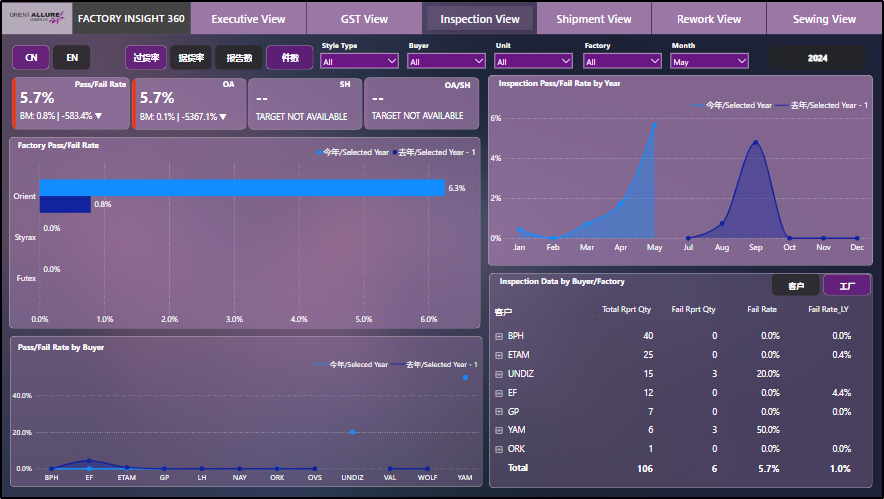

The page's visual inventory and layout, read from the dashboard file:
{"tool":"powerbi","page":{"name":"Inspection View","canvas":[1920,1080],"ordinal":3},"visuals":[{"type":"shape","title":"Navigation Panel Background Shape","box":[0,0,1920,70.6],"z":0,"group":"g11"},{"type":"shape","title":"back","box":[0,2.8,153.1,68.1],"z":0,"group":"g13"},{"type":"advancedSlicerVisual","title":"Slicer year","fields":{"Values":["dim_date.year"]},"box":[1669.4,89.3,221,63.4],"z":0,"group":"g9"},{"type":"group","id":"g1","title":"Group 1","box":[16.7,159.5,266,124.4],"z":0,"group":"g12"},{"type":"cardVisual","fields":{"Data":["IVnewMeasures.insRateDynResult"]},"box":[16.7,159.5,266,124.4],"z":0,"group":"g1"},{"type":"cardVisual","fields":{"Data":["IVnewMeasures.insRateOA/SHDynResult"]},"box":[784.7,159.5,261.7,124.4],"z":0,"group":"g7"},{"type":"group","id":"g2","title":"fail rate ship by month","box":[1060.1,159.5,840,416.7],"z":0},{"type":"shape","title":"background","box":[1060.1,159.8,840,416.4],"z":0,"group":"g2"},{"type":"cardVisual","fields":{"Data":["IVnewMeasures.insRateOADynResult"]},"box":[278.4,161.6,259.6,122.3],"z":0,"group":"g3"},{"type":"cardVisual","fields":{"Data":["IVnewMeasures.insRateSHDynResult"]},"box":[531.6,161.6,259.6,122.3],"z":0,"group":"g5"},{"type":"shape","title":"background","box":[16.3,295.2,1028.6,417.9],"z":0,"group":"g6"},{"type":"shape","title":"background","box":[1063.2,590.5,836.8,469.1],"z":0,"group":"g8"},{"type":"card","fields":{"Values":["Key Measures.dynInsRprtShipQtyHeaderCard"]},"box":[1302.7,649.7,120,44],"z":0,"group":"g10"},{"type":"shape","title":"background","box":[17,729.2,1031.1,329.5],"z":0,"group":"g4"},{"type":"image","title":"logo","box":[4.3,0,143.7,68.6],"z":1000,"group":"g13"},{"type":"actionButton","title":"Executive View Icon","box":[412.4,0,250.9,70.2],"z":1000,"group":"g11"},{"type":"slicer","title":"Slicer month","fields":{"Values":["dim_date.month"]},"box":[1448.4,78.4,190.2,74.3],"z":1000,"group":"g9"},{"type":"actionButton","title":"title","box":[154.4,161.3,125,35],"z":1000,"group":"g1"},{"type":"group","id":"g3","title":"Group 2","box":[278.4,161.3,259.6,122.6],"z":1000,"group":"g12"},{"type":"actionButton","title":"title","box":[477.7,161.3,50.4,35],"z":1000,"group":"g3"},{"type":"actionButton","title":"title","box":[732,161.3,50.4,35],"z":1000,"group":"g5"},{"type":"actionButton","title":"title","box":[962.2,161.3,79.7,36.2],"z":1000,"group":"g7"},{"type":"areaChart","fields":{"Category":["dim_date.month.Variation.Date Hierarchy.Month"],"Y":["newMeasures.insRateDynResult","newMeasures.insRateDynResult_LYEM"]},"box":[1060.1,203.3,840,354.8],"z":1000,"group":"g2"},{"type":"clusteredBarChart","fields":{"Category":["dim_factory.factory"],"Y":["newMeasures.inspectionRateDynamicResult","IVnewMeasures.insRateDynResult_LY"]},"box":[16.5,305.8,1028.6,407.8],"z":1000,"group":"g6"},{"type":"pivotTable","fields":{"Rows":["dim_buyer.buyer","dim_buyer.buyer","dim_factory.factory"],"Values":["newMeasures.insqty_rprt_shipDynResult","newMeasures.pass_fail_rprt_ship_qty_DynResult","newMeasures.insRateDynResult","newMeasures.insRateDynResult_LY"]},"box":[1065.4,648.9,834.6,410.7],"z":1000,"group":"g8"},{"type":"card","fields":{"Values":["Key Measures.dynInsPassFailHeaderCard"]},"box":[1450.7,649.7,116,44],"z":1000,"group":"g10"},{"type":"group","id":"g4","title":"fail rate ship by buyer","box":[17,729.2,1031.1,329.5],"z":1000},{"type":"areaChart","fields":{"Category":["dim_buyer.buyer"],"Y":["newMeasures.insRateDynResult","newMeasures.insRateDynResult_LY"]},"box":[17,768.5,1031.1,290.3],"z":1000,"group":"g4"},{"type":"actionButton","title":"Overshipment View","box":[1167.2,0,248.7,70.2],"z":2000,"group":"g11"},{"type":"slicer","title":"Slicer factory","fields":{"Values":["dim_factory.factory"]},"box":[1258.2,78.4,190.2,74.3],"z":2000,"group":"g9"},{"type":"actionButton","title":"title","box":[1080.8,159.5,302.8,35],"z":2000,"group":"g2"},{"type":"group","id":"g5","title":"Group 3","box":[531.6,161.3,259.6,122.6],"z":2000,"group":"g12"},{"type":"group","id":"g6","title":"fail rate ship by factory","box":[16.3,295.2,1028.8,418.4],"z":2000},{"type":"actionButton","title":"title","box":[31.1,295.2,304.7,35],"z":2000,"group":"g6"},{"type":"advancedSlicerVisual","title":"Slicer buyer/factory","fields":{"Values":["Parameter_01.Parameter_01"]},"box":[1679.1,591,220.9,51],"z":2000,"group":"g8"},{"type":"card","fields":{"Values":["Key Measures.dynInsPassFailRateHeaderCard"]},"box":[1614.7,649.7,88,44],"z":2000,"group":"g10"},{"type":"actionButton","title":"title","box":[30.6,736.6,217,35],"z":2000,"group":"g4"},{"type":"actionButton","title":"Inspection View Icon","box":[918.4,0,248.7,70.2],"z":3000,"group":"g11"},{"type":"slicer","title":"Slicer unit","fields":{"Values":["dim_unit.unit"]},"box":[1064.4,78.4,190.2,74.3],"z":3000,"group":"g9"},{"type":"group","id":"g7","title":"Group 4","box":[784.7,159.5,261.7,124.4],"z":3000,"group":"g12"},{"type":"group","id":"g8","title":"Inspection data matrix","box":[1063.2,590.5,836.8,469.1],"z":3000},{"type":"actionButton","title":"title","box":[1083.1,590.5,318.8,34.4],"z":3000,"group":"g8"},{"type":"card","fields":{"Values":["Key Measures.dynInsPassFailRateLYHeaderCard"]},"box":[1748.7,649.7,110,44],"z":3000,"group":"g10"},{"type":"actionButton","title":"Sewing View Icon","box":[1668.9,0,250.9,70.2],"z":4000,"group":"g11"},{"type":"group","id":"g9","title":"Slicer panel","box":[263.8,78.4,1626.6,74.3],"z":4000},{"type":"slicer","title":"Slicer buyer","fields":{"Values":["dim_buyer.buyer"]},"box":[874.2,78.4,190.2,74.3],"z":4000,"group":"g9"},{"type":"group","id":"g10","title":"dyncolheader","box":[1302.7,649.7,556,44],"z":4000,"group":"g8"},{"type":"group","id":"g11","title":"Navigation panel","box":[0,0,1920,70.6],"z":5000},{"type":"actionButton","title":"GST View Icon","box":[665.4,0,250.9,70.2],"z":5000,"group":"g11"},{"type":"slicer","title":"Slicer style type","fields":{"Values":["dim_style_type.style_type"]},"box":[684,78.4,190.2,74.3],"z":5000,"group":"g9"},{"type":"shape","title":"Orient Insight 360 Button","box":[155.2,0,255,70.2],"z":6000,"group":"g11"},{"type":"advancedSlicerVisual","fields":{"Values":["Pass-Fail Rate Slicer.BM"]},"box":[263.8,89.3,199.1,63],"z":6000,"group":"g9"},{"type":"group","id":"g12","title":"KPI","box":[16.7,159.5,1029.7,124.4],"z":6000},{"type":"group","id":"g13","title":"Orient logo","box":[0,0,153.1,70.2],"z":7000,"group":"g11"},{"type":"advancedSlicerVisual","title":"Slicer year","fields":{"Values":["#lan-slicer.Lan"]},"box":[18.1,89.3,181.1,63],"z":7000},{"type":"advancedSlicerVisual","fields":{"Values":["Report-ShipQty Slicer.BM"]},"box":[461.1,89.3,224.4,63.3],"z":7000,"group":"g9"},{"type":"actionButton","title":"RR View icon","box":[1418,0,248.7,70.2],"z":8000,"group":"g11"}]}

Visuals, with their boxes in screenshot pixels (x1, y1, x2, y2), scaled from the page's 1920x1080 canvas onto the 884x499 screenshot:
"Navigation Panel Background Shape" shape: bbox=[0, 0, 883, 33]
"back" shape: bbox=[0, 1, 70, 33]
"Slicer year" advancedSlicerVisual: bbox=[769, 41, 870, 71]
"Group 1" group: bbox=[8, 74, 130, 131]
cardVisual - IVnewMeasures.insRateDynResult: bbox=[8, 74, 130, 131]
cardVisual - IVnewMeasures.insRateOA/SHDynResult: bbox=[361, 74, 482, 131]
"fail rate ship by month" group: bbox=[488, 74, 875, 266]
"background" shape: bbox=[488, 74, 875, 266]
cardVisual - IVnewMeasures.insRateOADynResult: bbox=[128, 75, 248, 131]
cardVisual - IVnewMeasures.insRateSHDynResult: bbox=[245, 75, 364, 131]
"background" shape: bbox=[8, 136, 481, 329]
"background" shape: bbox=[490, 273, 875, 490]
card - Key Measures.dynInsRprtShipQtyHeaderCard: bbox=[600, 300, 655, 321]
"background" shape: bbox=[8, 337, 483, 489]
"logo" image: bbox=[2, 0, 68, 32]
"Executive View Icon" actionButton: bbox=[190, 0, 305, 32]
"Slicer month" slicer: bbox=[667, 36, 754, 71]
"title" actionButton: bbox=[71, 75, 129, 91]
"Group 2" group: bbox=[128, 75, 248, 131]
"title" actionButton: bbox=[220, 75, 243, 91]
"title" actionButton: bbox=[337, 75, 360, 91]
"title" actionButton: bbox=[443, 75, 480, 91]
areaChart - dim_date.month.Variation.Date Hierarchy.Month x newMeasures.insRateDynResult: bbox=[488, 94, 875, 258]
clusteredBarChart - dim_factory.factory x newMeasures.inspectionRateDynamicResult: bbox=[8, 141, 481, 330]
pivotTable - dim_buyer.buyer x dim_buyer.buyer: bbox=[491, 300, 875, 490]
card - Key Measures.dynInsPassFailHeaderCard: bbox=[668, 300, 721, 321]
"fail rate ship by buyer" group: bbox=[8, 337, 483, 489]
areaChart - dim_buyer.buyer x newMeasures.insRateDynResult: bbox=[8, 355, 483, 489]
"Overshipment View" actionButton: bbox=[537, 0, 652, 32]
"Slicer factory" slicer: bbox=[579, 36, 667, 71]
"title" actionButton: bbox=[498, 74, 637, 90]
"Group 3" group: bbox=[245, 75, 364, 131]
"fail rate ship by factory" group: bbox=[8, 136, 481, 330]
"title" actionButton: bbox=[14, 136, 155, 153]
"Slicer buyer/factory" advancedSlicerVisual: bbox=[773, 273, 875, 297]
card - Key Measures.dynInsPassFailRateHeaderCard: bbox=[743, 300, 784, 321]
"title" actionButton: bbox=[14, 340, 114, 357]
"Inspection View Icon" actionButton: bbox=[423, 0, 537, 32]
"Slicer unit" slicer: bbox=[490, 36, 578, 71]
"Group 4" group: bbox=[361, 74, 482, 131]
"Inspection data matrix" group: bbox=[490, 273, 875, 490]
"title" actionButton: bbox=[499, 273, 645, 289]
card - Key Measures.dynInsPassFailRateLYHeaderCard: bbox=[805, 300, 856, 321]
"Sewing View Icon" actionButton: bbox=[768, 0, 883, 32]
"Slicer panel" group: bbox=[121, 36, 870, 71]
"Slicer buyer" slicer: bbox=[402, 36, 490, 71]
"dyncolheader" group: bbox=[600, 300, 856, 321]
"Navigation panel" group: bbox=[0, 0, 883, 33]
"GST View Icon" actionButton: bbox=[306, 0, 422, 32]
"Slicer style type" slicer: bbox=[315, 36, 402, 71]
"Orient Insight 360 Button" shape: bbox=[71, 0, 189, 32]
advancedSlicerVisual - Pass-Fail Rate Slicer.BM: bbox=[121, 41, 213, 70]
"KPI" group: bbox=[8, 74, 482, 131]
"Orient logo" group: bbox=[0, 0, 70, 32]
"Slicer year" advancedSlicerVisual: bbox=[8, 41, 92, 70]
advancedSlicerVisual - Report-ShipQty Slicer.BM: bbox=[212, 41, 316, 71]
"RR View icon" actionButton: bbox=[653, 0, 767, 32]
